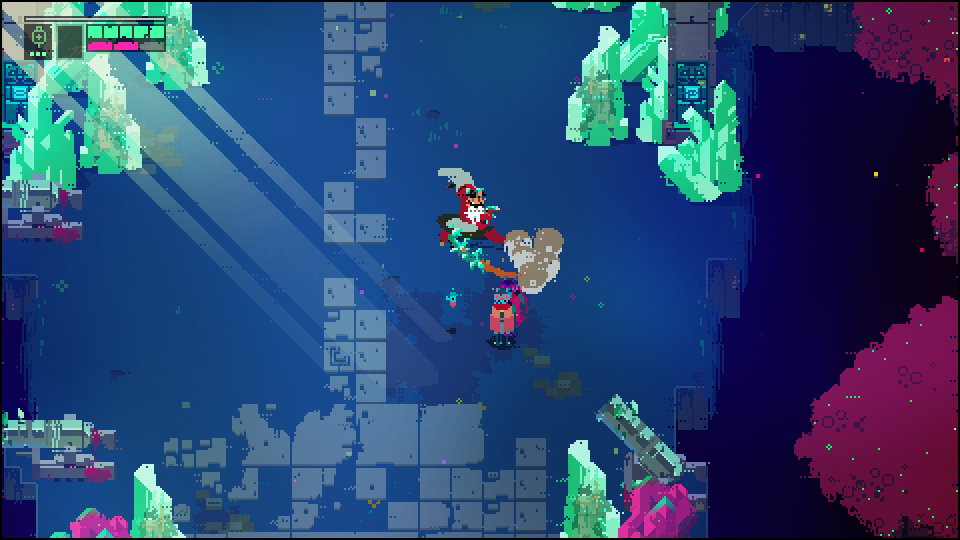hanged_man: (433, 164, 515, 275)
player: (489, 283, 519, 348)
